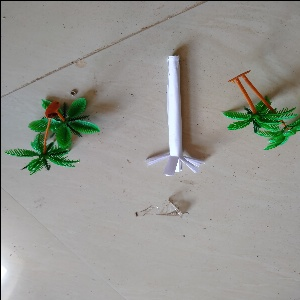plant: (222, 70, 298, 150), (11, 97, 88, 173)
weed: (149, 54, 207, 172)
